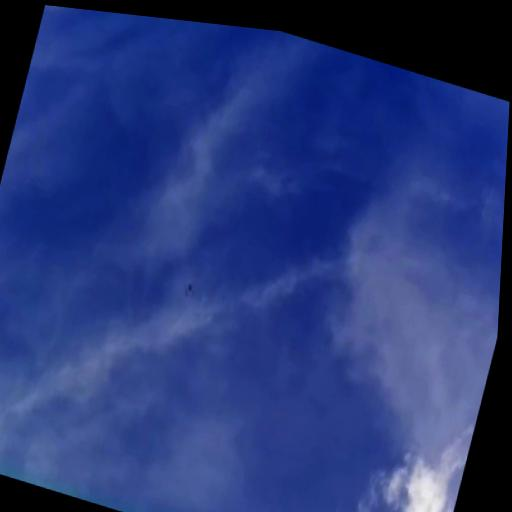drones: (178, 274, 203, 304)
